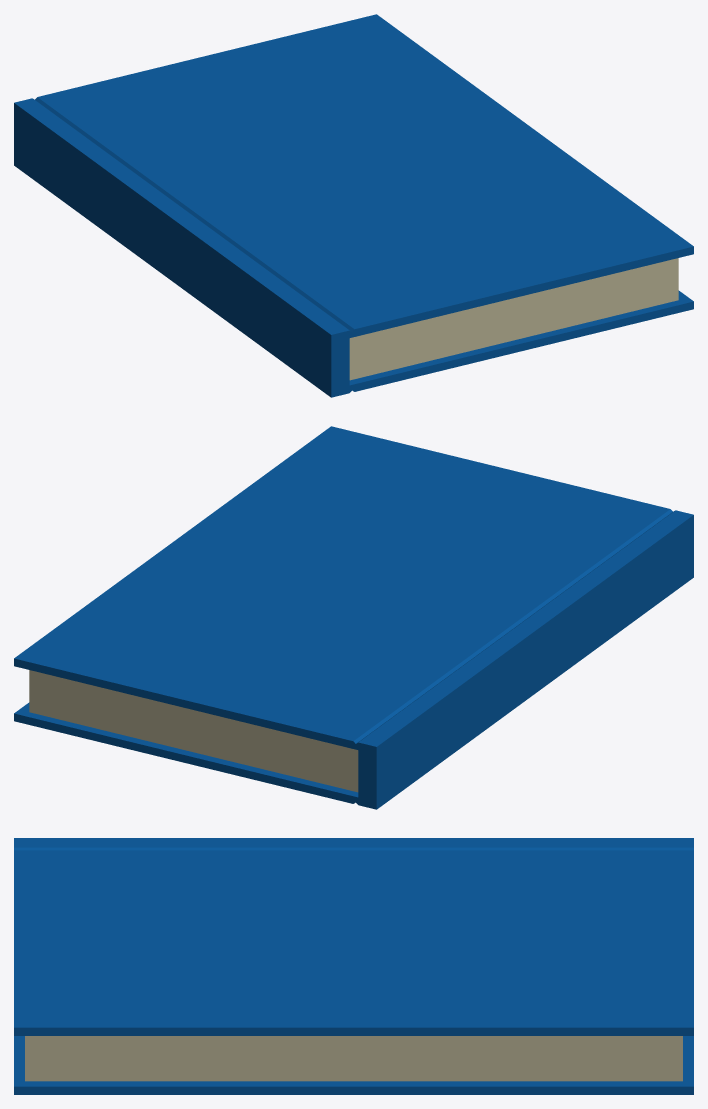
Rendered from Book_Medical_vc.fbx.
3 renders of one model, top to bottom at view 1: azimuth 30°, elevation 25°; view 2: azimuth 150°, elevation 25°; view 3: azimuth 270°, elevation 25°, orthographic. The views are drawn at different scales.
Parts seen in each view (by area): view 1: Book_Medical_vc; view 2: Book_Medical_vc; view 3: Book_Medical_vc.
Boxes of the visible parts, box(x1,y1,x2,y2) form: Book_Medical_vc: box(14, 14, 693, 397); Book_Medical_vc: box(14, 426, 693, 809); Book_Medical_vc: box(14, 838, 693, 1094).
Size of the model in its own units: 11.52 by 1.91 by 17.45.
